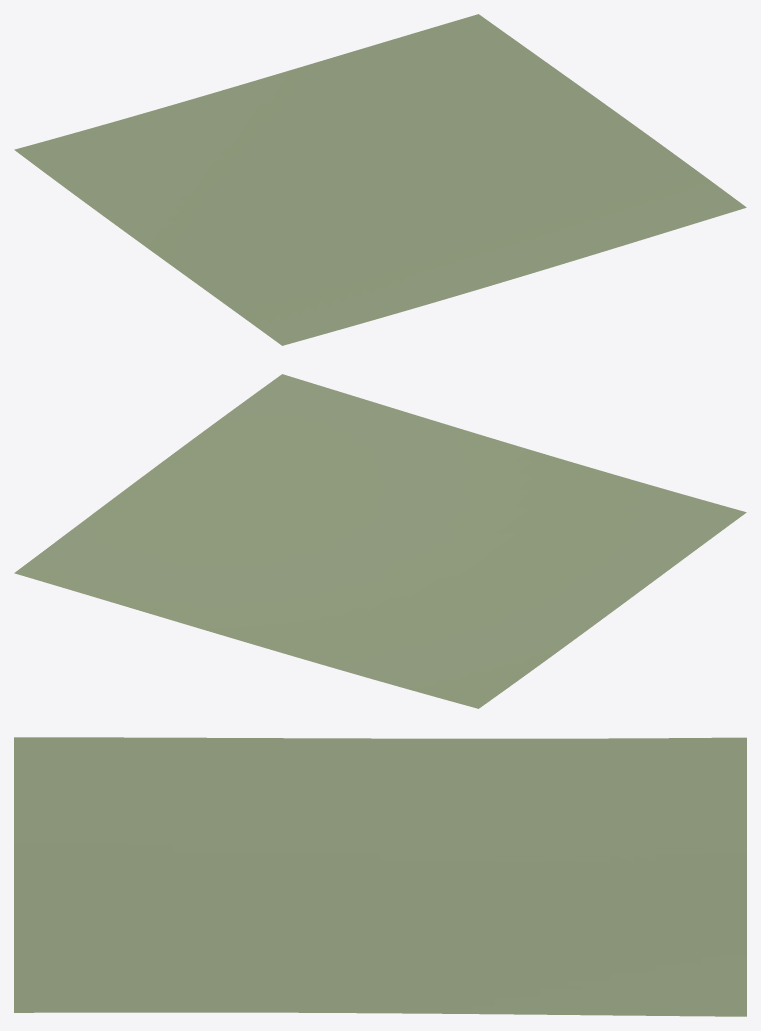
Rendered from expanse-9-4.glb.
3 renders of one model, top to bottom at view 1: azimuth 30°, elevation 25°; view 2: azimuth 150°, elevation 25°; view 3: azimuth 270°, elevation 25°, orthographic. The views are drawn at different scales.
Parts seen in each view (by area): view 1: expanse-9-4; view 2: expanse-9-4; view 3: expanse-9-4.
Boxes of the visible parts, x1=… form: expanse-9-4: x1=14, y1=14, x2=746, y2=345; expanse-9-4: x1=14, y1=374, x2=746, y2=708; expanse-9-4: x1=14, y1=737, x2=746, y2=1016.
Size of the model in its own units: 256 by 13.87 by 256.
